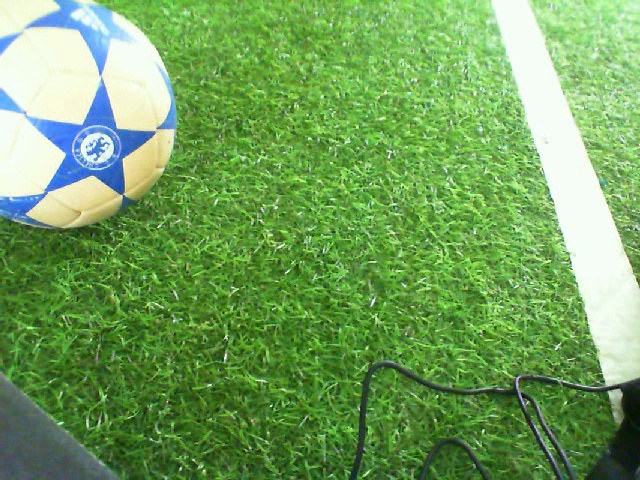ball: (1, 1, 179, 233)
